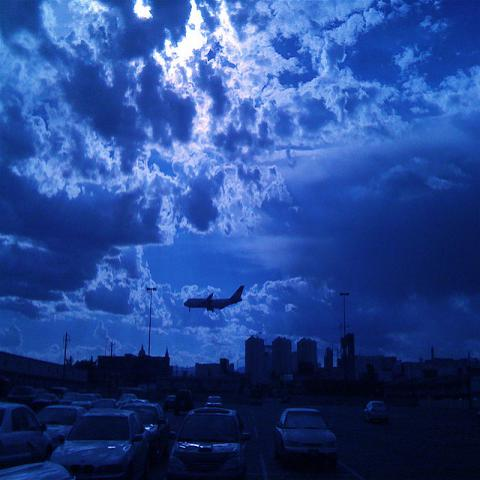car: (50, 407, 150, 479), (166, 404, 252, 480), (269, 408, 338, 472), (122, 397, 172, 467), (0, 404, 53, 468), (36, 404, 84, 458), (364, 401, 388, 424), (173, 391, 194, 417), (71, 394, 98, 410), (118, 392, 137, 404), (204, 396, 222, 407), (164, 394, 176, 406)
motorcycle: (129, 421, 176, 479)
